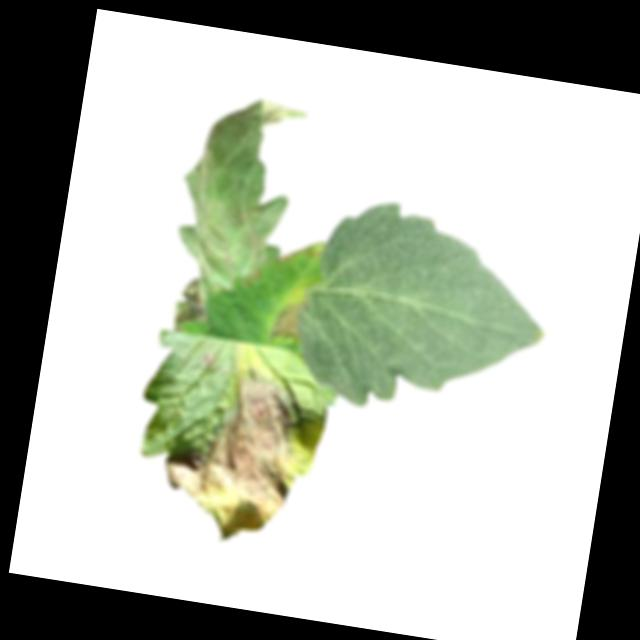Late_blight: (144, 83, 309, 306), (153, 362, 331, 557), (166, 274, 211, 334), (270, 293, 310, 341), (197, 350, 218, 372)
